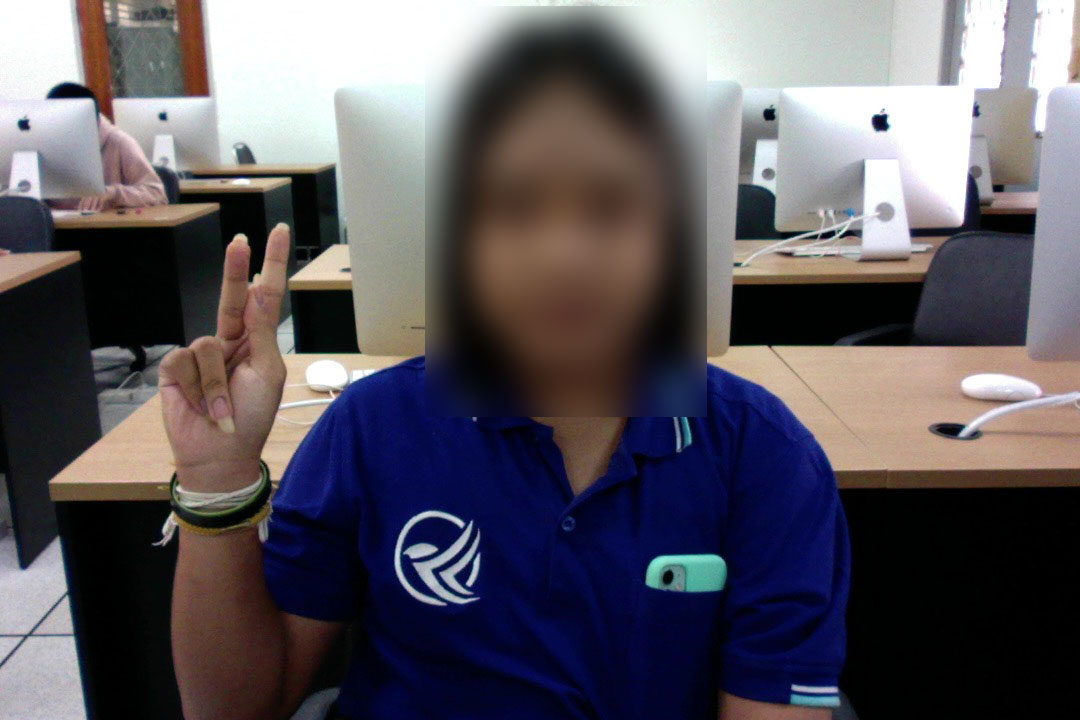ko: (143, 216, 302, 539)
